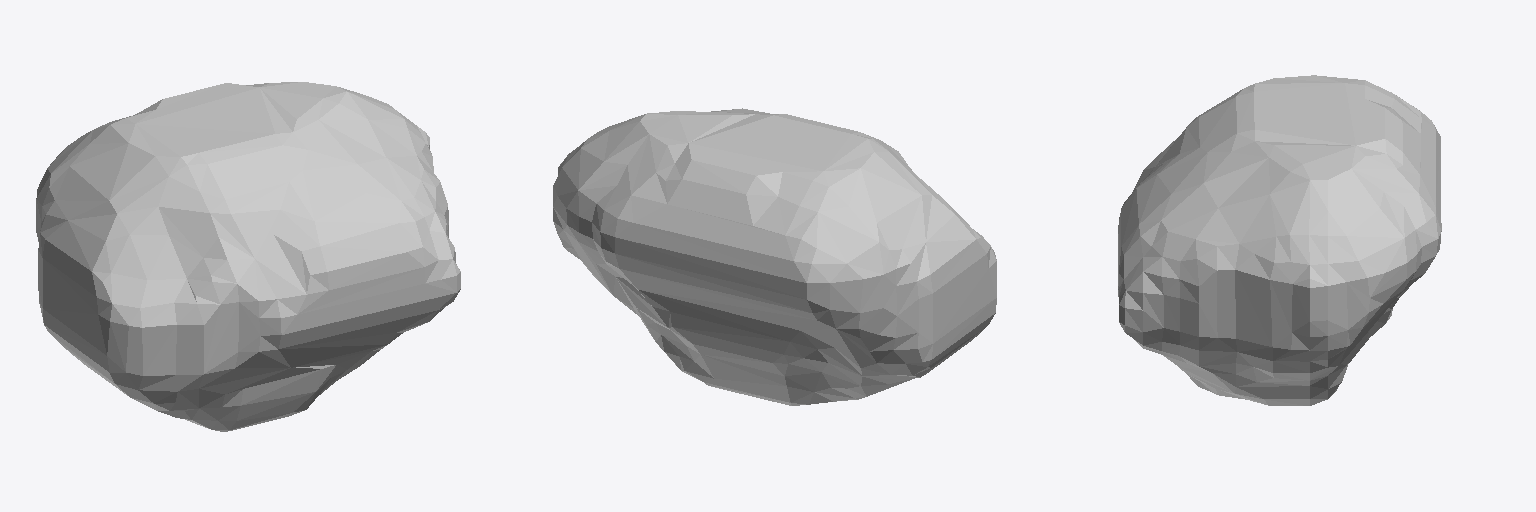
The picture shows the model from 3 angles: view 1: azimuth 30°, elevation 25°; view 2: azimuth 150°, elevation 25°; view 3: azimuth 270°, elevation 25°; orthographic projection.
Parts seen in each view (by area): view 1: Polygonal_Model_9_Triangles_0; view 2: Polygonal_Model_9_Triangles_0; view 3: Polygonal_Model_9_Triangles_0.
Part boxes in pixels (x1,y1,x2,y2): Polygonal_Model_9_Triangles_0: (36, 82, 460, 431); Polygonal_Model_9_Triangles_0: (553, 108, 996, 405); Polygonal_Model_9_Triangles_0: (1118, 75, 1441, 405).
Bounding box in the file's own units: 0.5583 × 0.3679 × 0.4126.